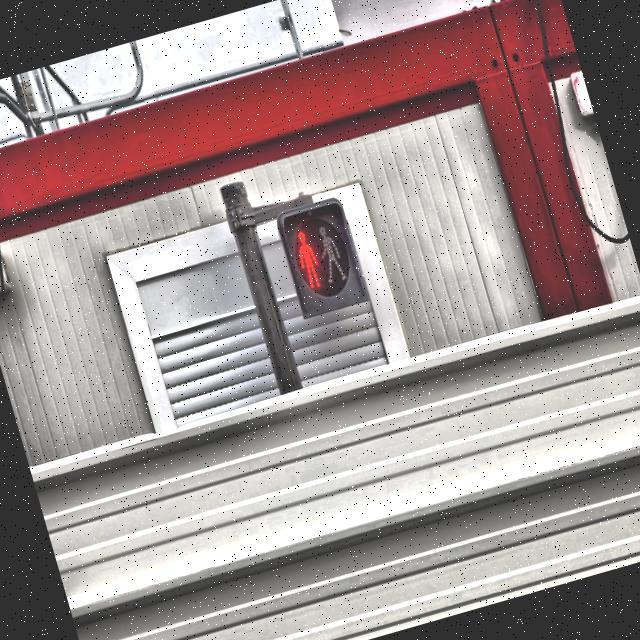red_light: (288, 224, 327, 294)
